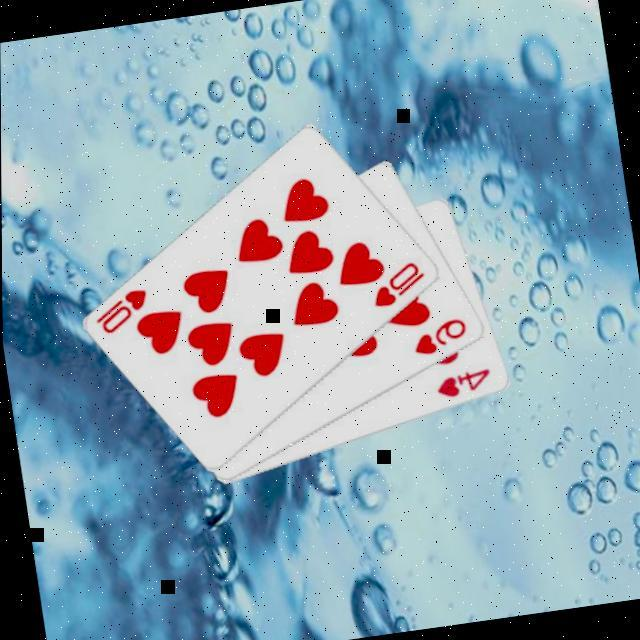10H: (88, 282, 154, 338), (364, 256, 430, 310)
4H: (429, 363, 495, 401)
9H: (407, 312, 472, 358)
